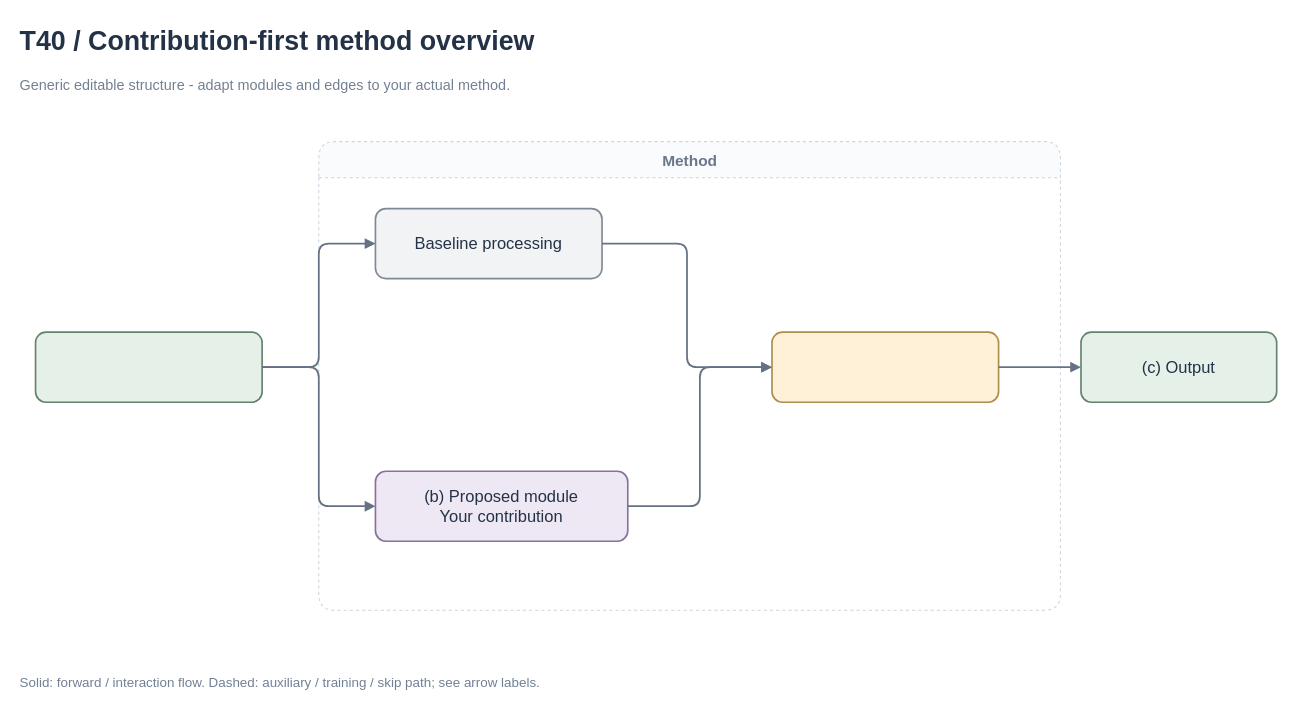
The diagram is 1302 pixels wide and 716 high, and some of its shapes have lost their labels. Here are the shapes that lost their labels. From the top down, the centre of each, then its label:
At (x=148, y=367): "(a) Input / problem".
At (x=885, y=367): "Feature integration".
